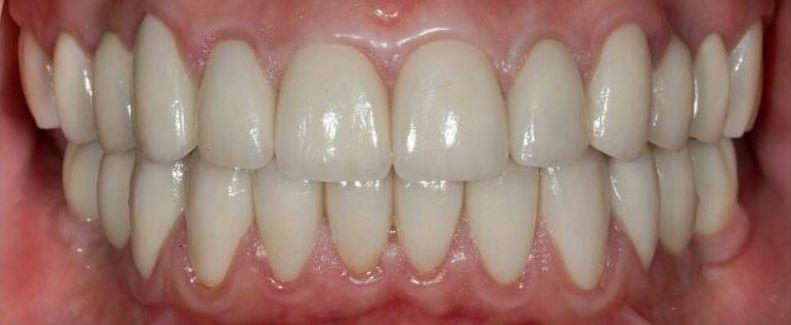1st Molar: (728, 20, 763, 135), (695, 143, 738, 235), (19, 29, 54, 127), (64, 145, 100, 222)
1st Premolar: (128, 154, 187, 277), (612, 151, 660, 267), (91, 27, 134, 152), (654, 29, 697, 153)
2nd Premolar: (53, 28, 92, 144), (695, 28, 731, 140), (658, 152, 696, 255), (98, 150, 128, 246)
Canine: (540, 153, 610, 293), (589, 18, 655, 162), (135, 10, 195, 165), (187, 154, 252, 293)
Central Incisor: (276, 34, 392, 182), (392, 37, 511, 180), (390, 174, 464, 277), (324, 176, 390, 279)
Lateral Incisor: (195, 32, 274, 170), (513, 31, 590, 167), (464, 164, 539, 290), (253, 163, 326, 290)
